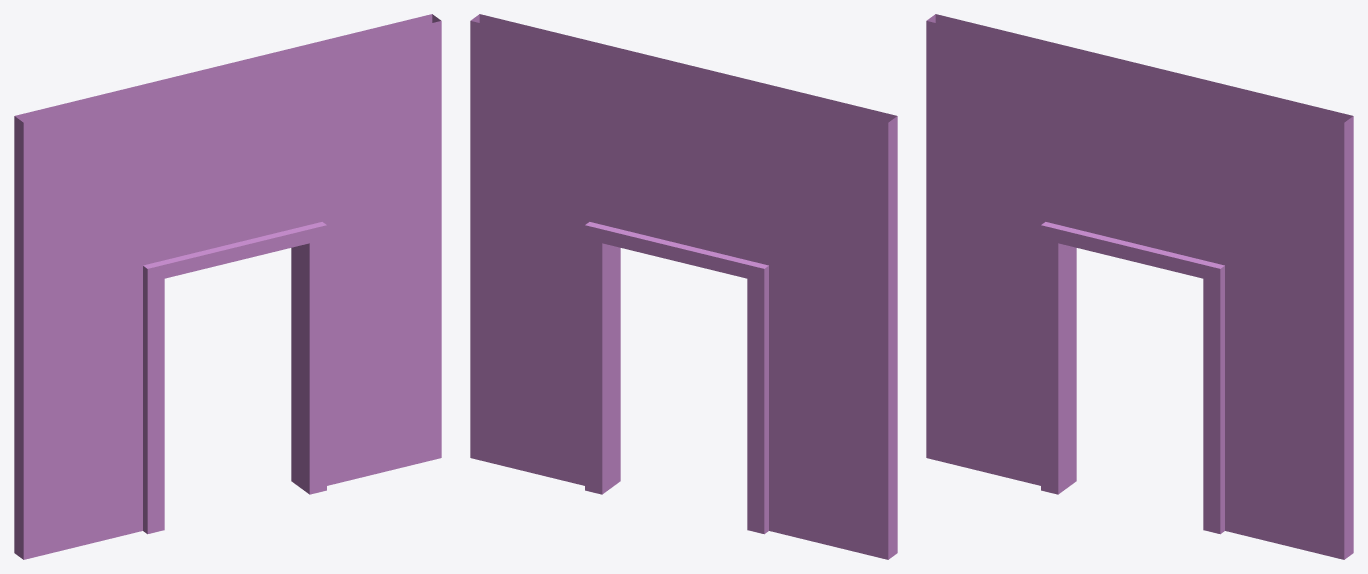
The model's file is Door_Frame_StorageToKitchen.FBX.
3 views of the same model, side by side, from view 1: azimuth 30°, elevation 25°; view 2: azimuth 150°, elevation 25°; view 3: azimuth 330°, elevation 25° (orthographic).
Visible parts, largest first — view 1: Door_Frame_StorageToKitchen; view 2: Door_Frame_StorageToKitchen; view 3: Door_Frame_StorageToKitchen.
Boxes of the visible parts, x1,y1,x2,y2 form: Door_Frame_StorageToKitchen: [14, 14, 441, 559]; Door_Frame_StorageToKitchen: [470, 14, 897, 559]; Door_Frame_StorageToKitchen: [926, 14, 1353, 559].
Size of the model in its own units: 5.04 by 5.04 by 0.3873.
